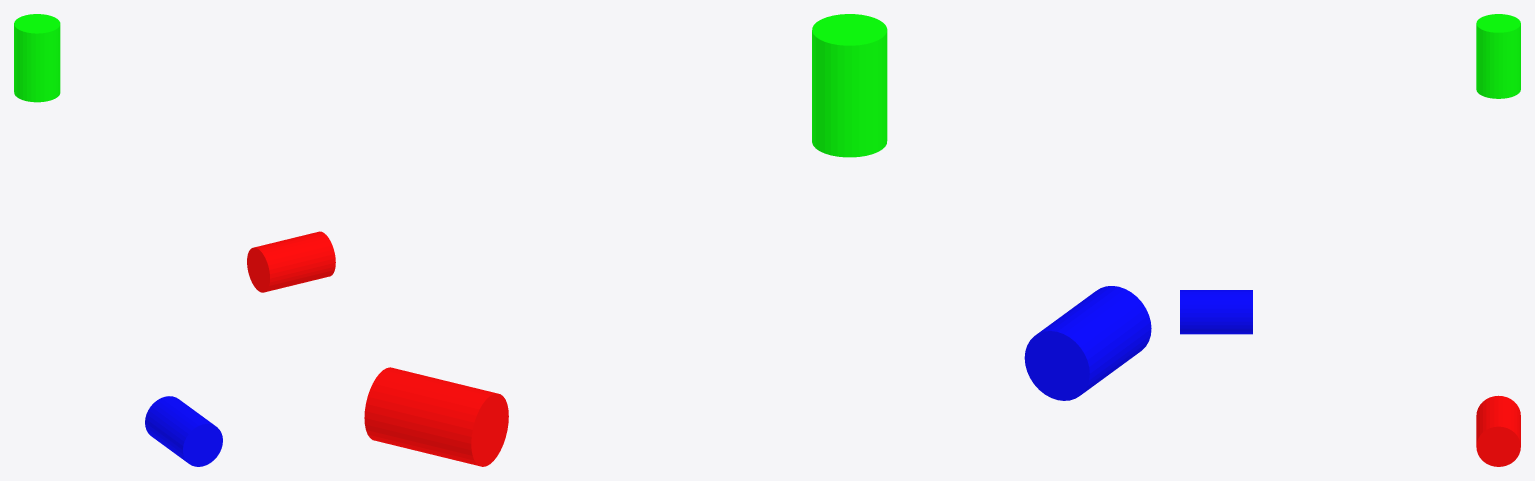
The model's file is gizmo-scl.glb.
3 renders of one model, left to right at view 1: azimuth 30°, elevation 25°; view 2: azimuth 150°, elevation 25°; view 3: azimuth 270°, elevation 25°, orthographic. The views are drawn at different scales.
Visible parts, largest first — view 1: Cone.004, Cone.003, Cone.005; view 2: Cone.004, Cone.003, Cone.005; view 3: Cone.004, Cone.005, Cone.003.
Boxes of the visible parts, x1=… form: Cone.004: x1=14, y1=14, x2=60, y2=102; Cone.003: x1=247, y1=231, x2=335, y2=292; Cone.005: x1=145, y1=396, x2=222, y2=466; Cone.004: x1=812, y1=14, x2=887, y2=157; Cone.003: x1=364, y1=367, x2=508, y2=466; Cone.005: x1=1024, y1=286, x2=1151, y2=400; Cone.004: x1=1476, y1=14, x2=1520, y2=98; Cone.005: x1=1180, y1=290, x2=1252, y2=334; Cone.003: x1=1476, y1=395, x2=1520, y2=466.
Bounding box in the file's own units: 0.4591 × 0.4591 × 0.4591.
Materials: 1 (1 with a texture image).
